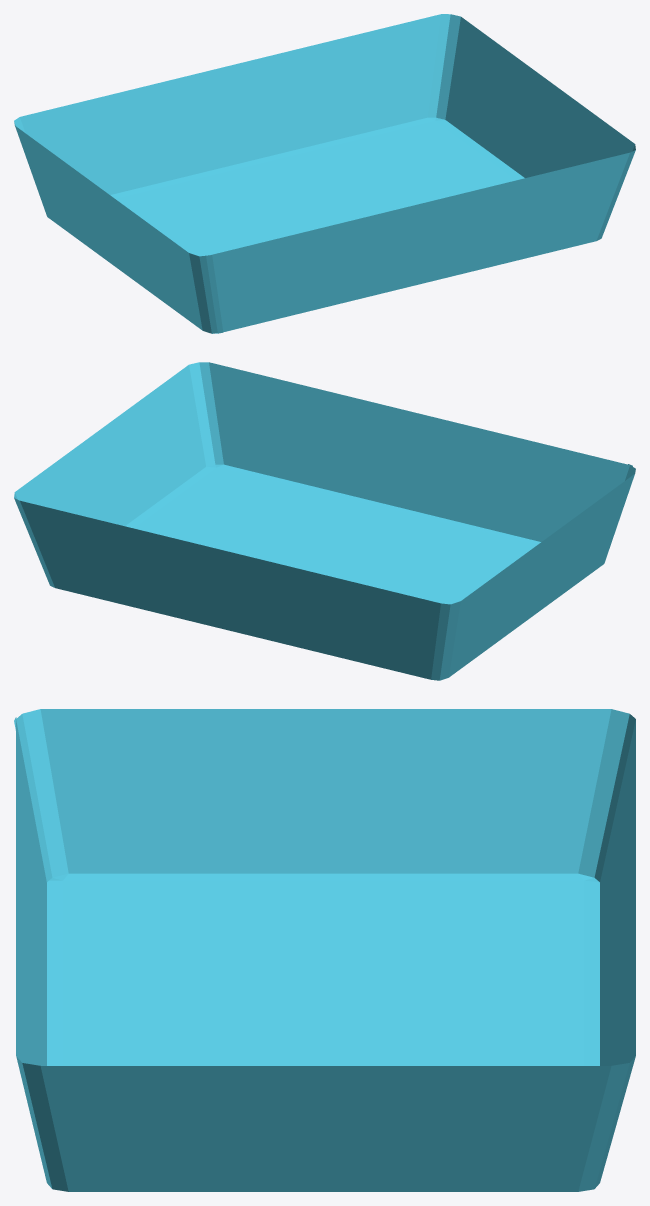
The model's file is console_on.fbx.
3 views of the same model, one above another, from view 1: azimuth 30°, elevation 25°; view 2: azimuth 150°, elevation 25°; view 3: azimuth 270°, elevation 25° (orthographic). The views are drawn at different scales.
Parts seen in each view (by area): view 1: Desktop_Projector.000, Desktop_Projector.001; view 2: Desktop_Projector.000, Desktop_Projector.001; view 3: Desktop_Projector.000, Desktop_Projector.001.
Part boxes in pixels (x1,y1,x2,y2): Desktop_Projector.000: (14,14,635,333); Desktop_Projector.001: (110,117,524,333); Desktop_Projector.000: (14,362,635,680); Desktop_Projector.001: (125,464,540,604); Desktop_Projector.000: (14,709,635,1191); Desktop_Projector.001: (47,873,599,1065).
Size of the model in its own units: 1.96 by 0.3786 by 1.44.
